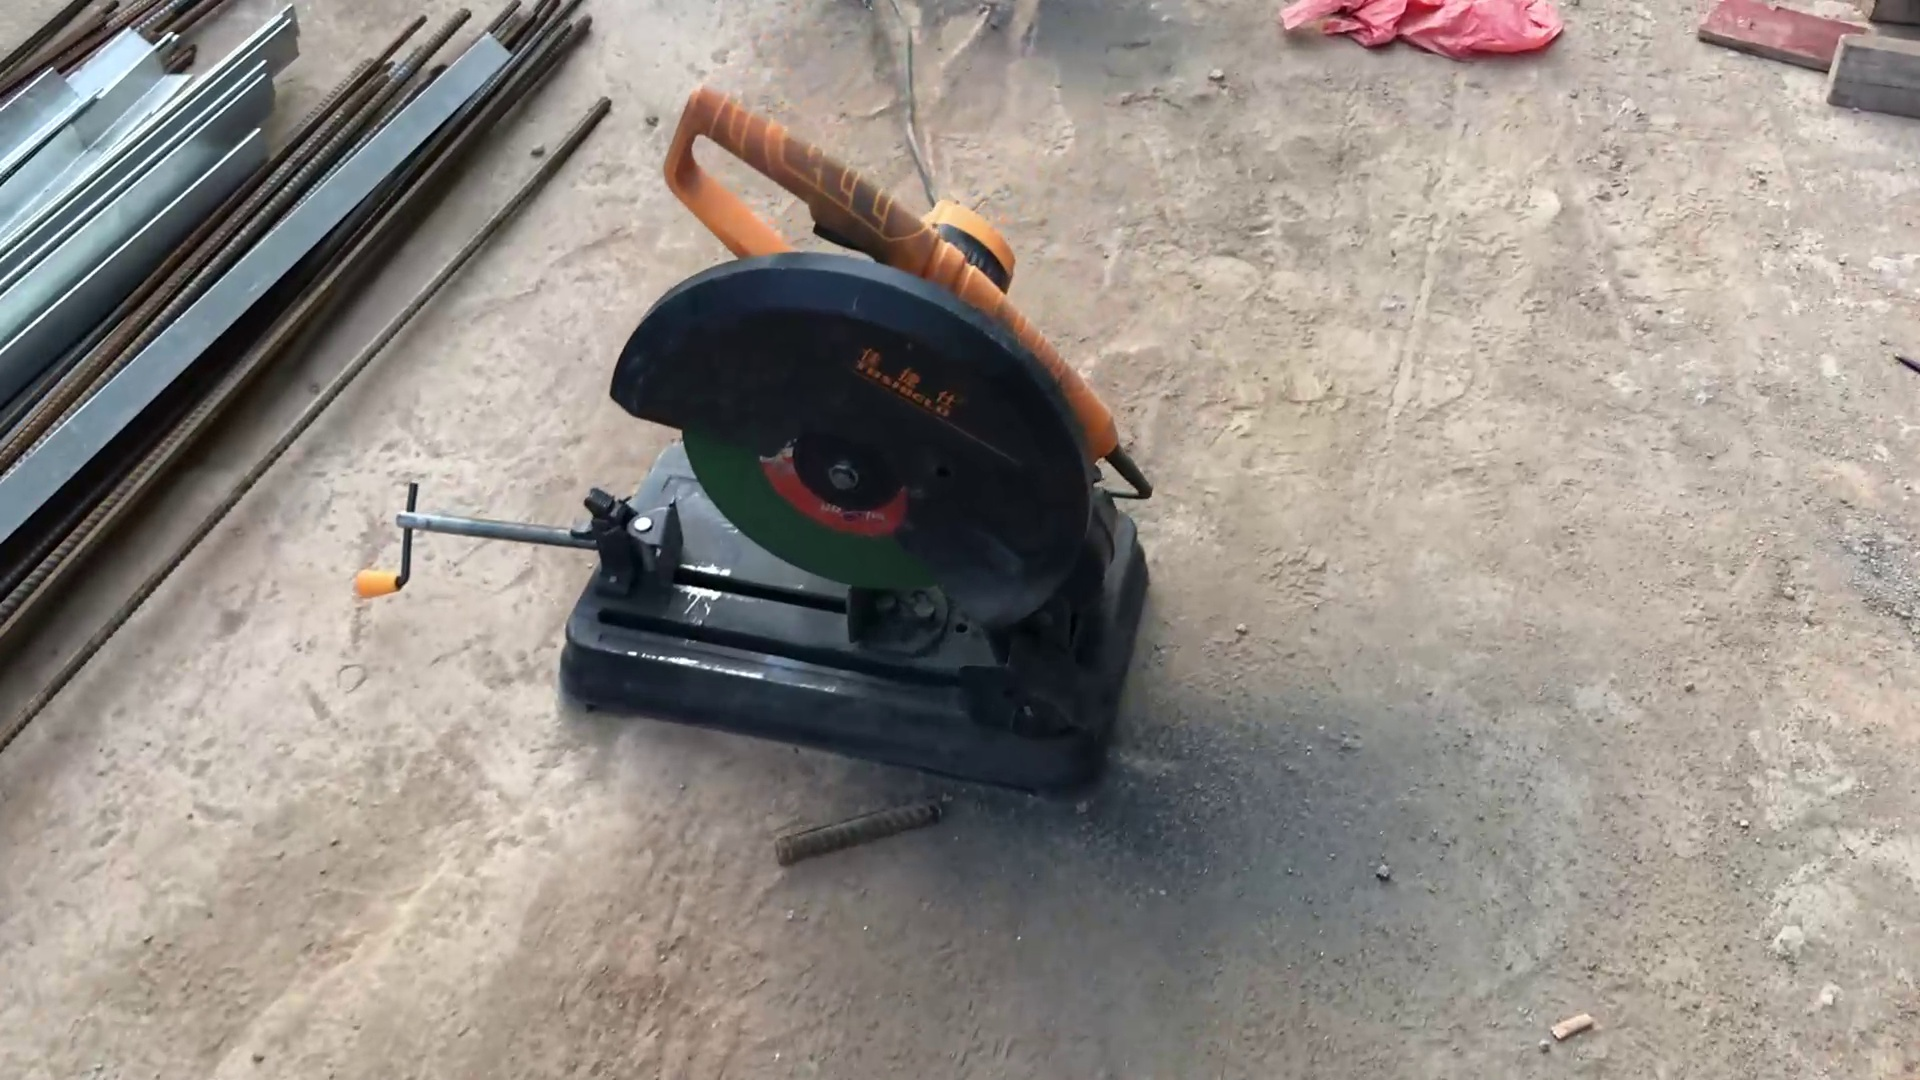cutter: (334, 67, 1197, 818)
